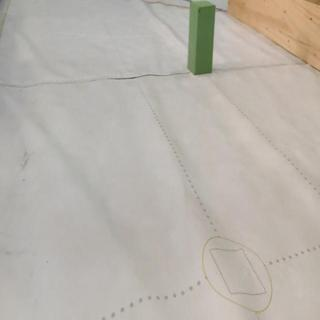greenbox: (185, 2, 216, 75)
